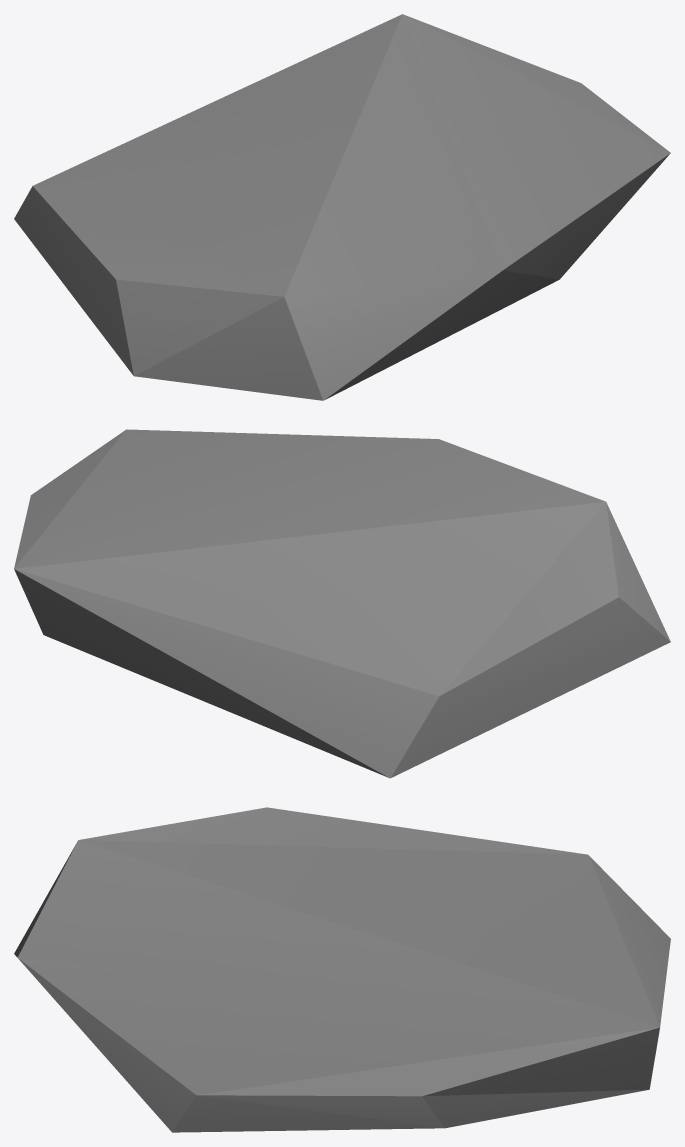
File: rock_small_flat.fbx
The picture shows the model from 3 angles, top to bottom: view 1: azimuth 30°, elevation 25°; view 2: azimuth 150°, elevation 25°; view 3: azimuth 270°, elevation 25°; orthographic projection. The views are drawn at different scales.
Visible parts, largest first — view 1: rock_small_flat; view 2: rock_small_flat; view 3: rock_small_flat.
Boxes of the visible parts, x1,y1,x2,y2 form: rock_small_flat: [14, 14, 670, 400]; rock_small_flat: [14, 429, 670, 778]; rock_small_flat: [14, 807, 670, 1132].
Bounding box in the file's own units: 0.35 × 0.07 × 0.3.
1 material, 1 textured.
